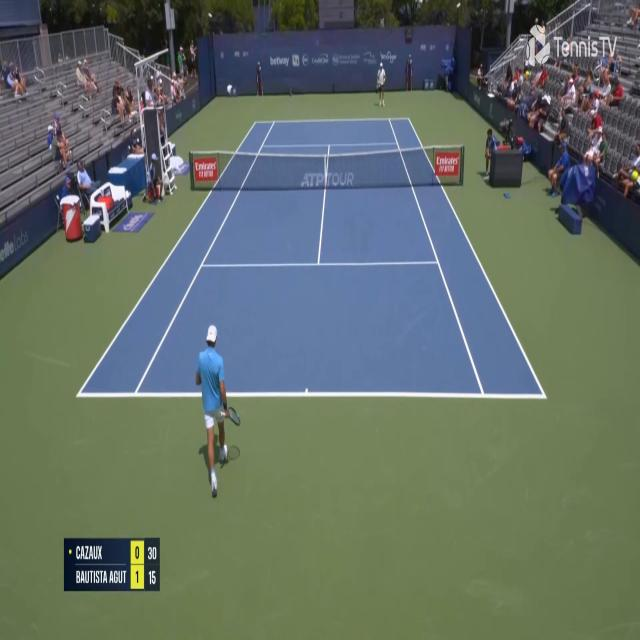tennis-player: (194, 320, 243, 501), (375, 61, 386, 108)
